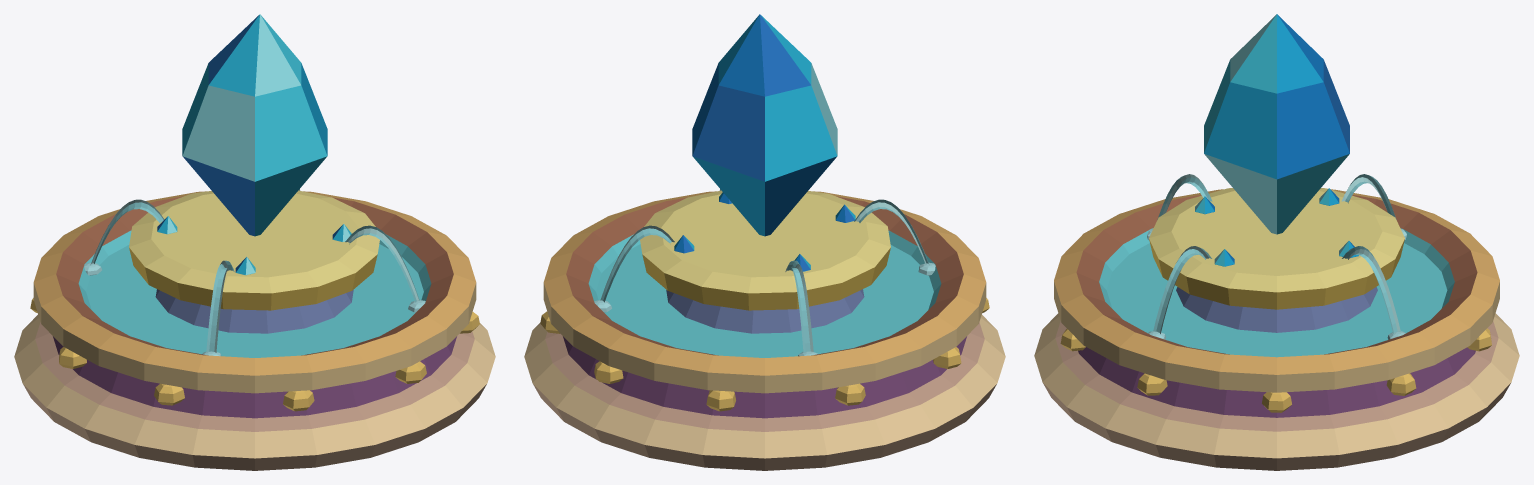
Rendered from fountain.glb.
The picture shows the model from 3 angles, left to right: view 1: azimuth 30°, elevation 25°; view 2: azimuth 150°, elevation 25°; view 3: azimuth 270°, elevation 25°; orthographic projection.
Parts seen in each view (by area): view 1: Fantana, CristalCentral; view 2: Fantana, CristalCentral; view 3: Fantana, CristalCentral.
Part boxes in pixels (x1,y1,x2,y2): Fantana: [14, 189, 495, 470]; CristalCentral: [182, 14, 327, 236]; Fantana: [524, 189, 1005, 470]; CristalCentral: [692, 14, 837, 236]; Fantana: [1034, 174, 1519, 470]; CristalCentral: [1204, 14, 1349, 234].
Size of the model in its own units: 3.22 by 2.64 by 3.22.
